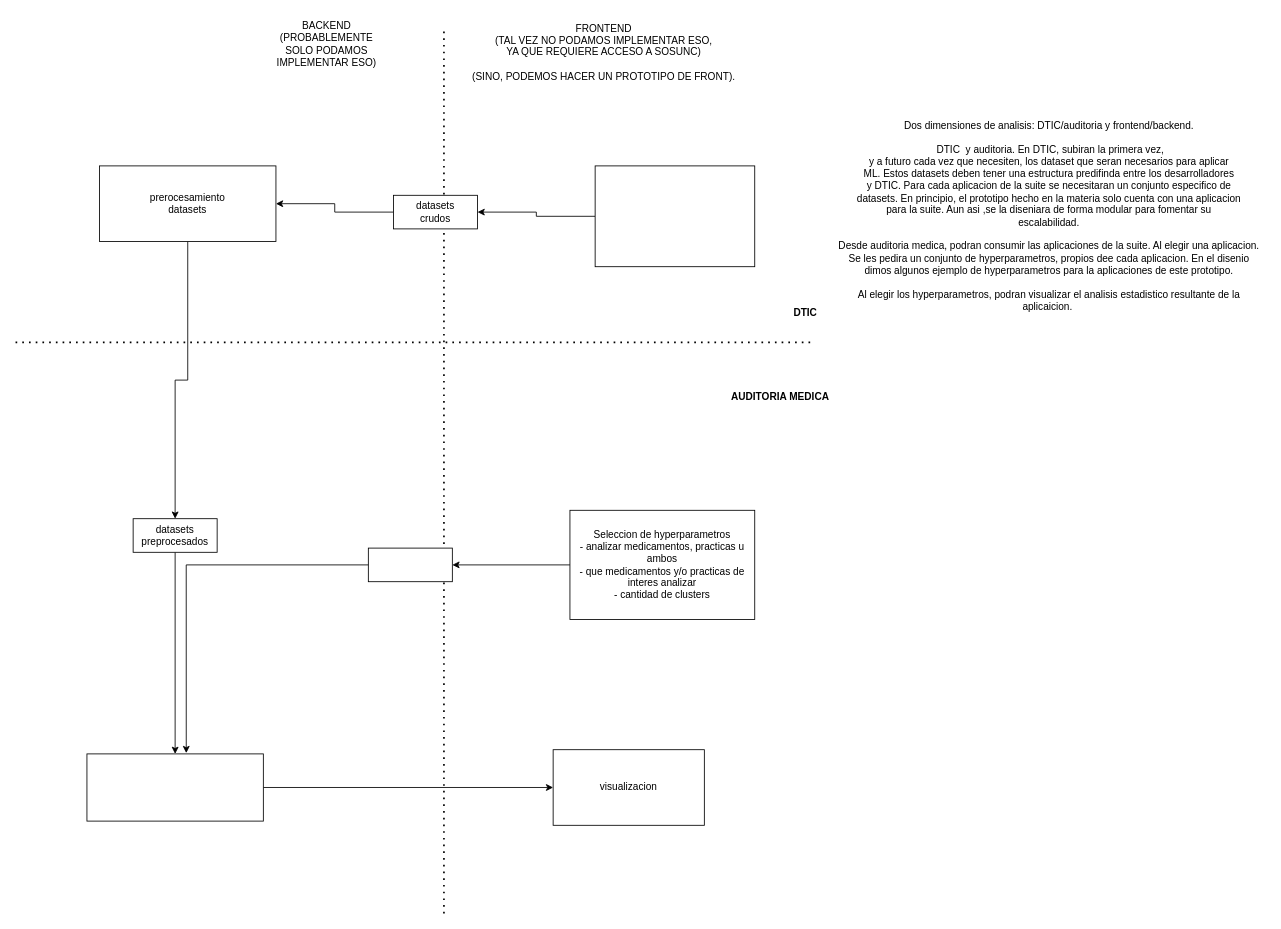
The diagram is 1281 pixels wide and 929 high, and some of its shapes have lost their labels. The shapes that lost their labels are listed below. From the top down, each one's centre as x and y in pixels, then its label:
[674,216]: Seleccion datasets
[410,564]: hyperparametros
[174,787]: app-clustering
